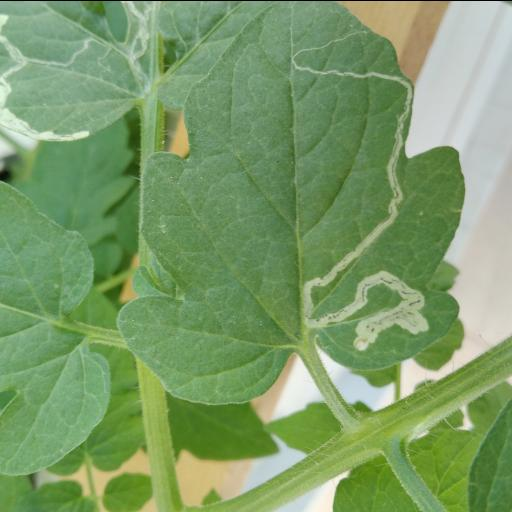disease_tomato: (116, 0, 468, 406)
